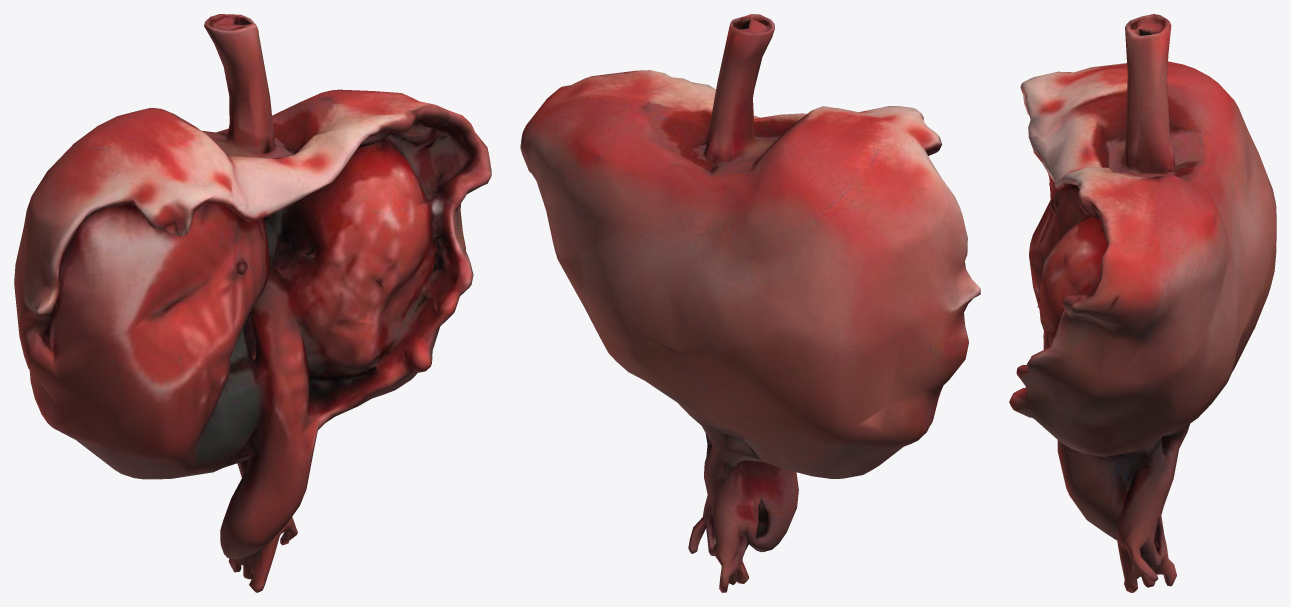
Rendered from stomach.glb.
3 views of the same model, side by side, from view 1: azimuth 30°, elevation 25°; view 2: azimuth 150°, elevation 25°; view 3: azimuth 270°, elevation 25° (orthographic). The views are drawn at different scales.
Visible parts, largest first — view 1: Mesh_0; view 2: Mesh_0; view 3: Mesh_0.
Part boxes in pixels (x1,y1,x2,y2): Mesh_0: (14, 14, 491, 592); Mesh_0: (520, 14, 980, 592); Mesh_0: (1009, 14, 1276, 592).
Size of the model in its own units: 1.64 by 2 by 0.868.
1 material, 1 textured.
